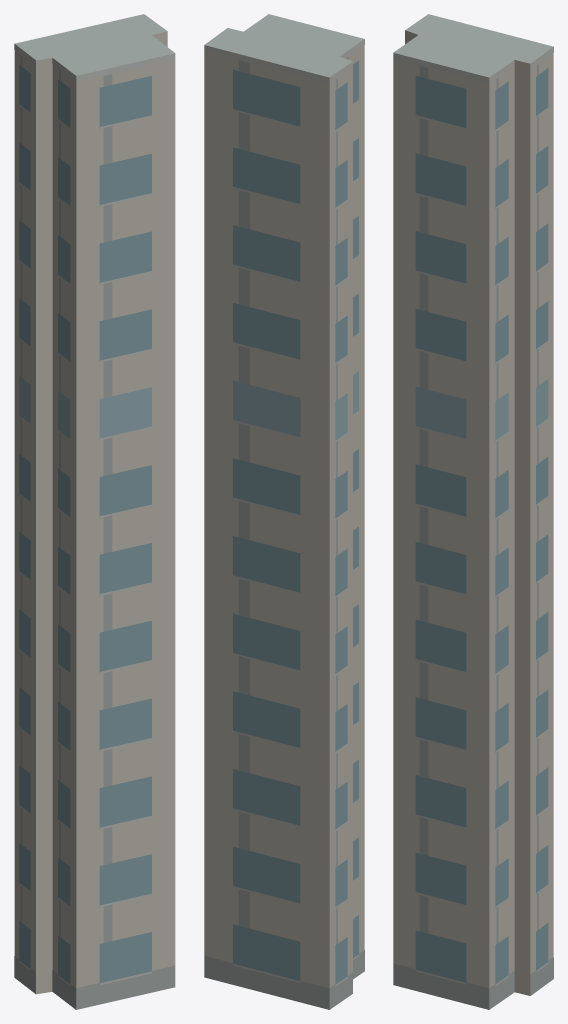
Rendered from survey-upis-32839053.glb.
3 renders of one model, left to right at view 1: azimuth 30°, elevation 25°; view 2: azimuth 150°, elevation 25°; view 3: azimuth 330°, elevation 25°, orthographic.
Visible parts, largest first — view 1: survey-upis-32839053.tmp; view 2: survey-upis-32839053.tmp; view 3: survey-upis-32839053.tmp.
Boxes of the visible parts, x1,y1,x2,y2 form: survey-upis-32839053.tmp: (14,14,175,1009); survey-upis-32839053.tmp: (204,14,364,1009); survey-upis-32839053.tmp: (393,14,553,1009).
Bounding box in the file's own units: 5.29 × 36.6 × 3.56.
